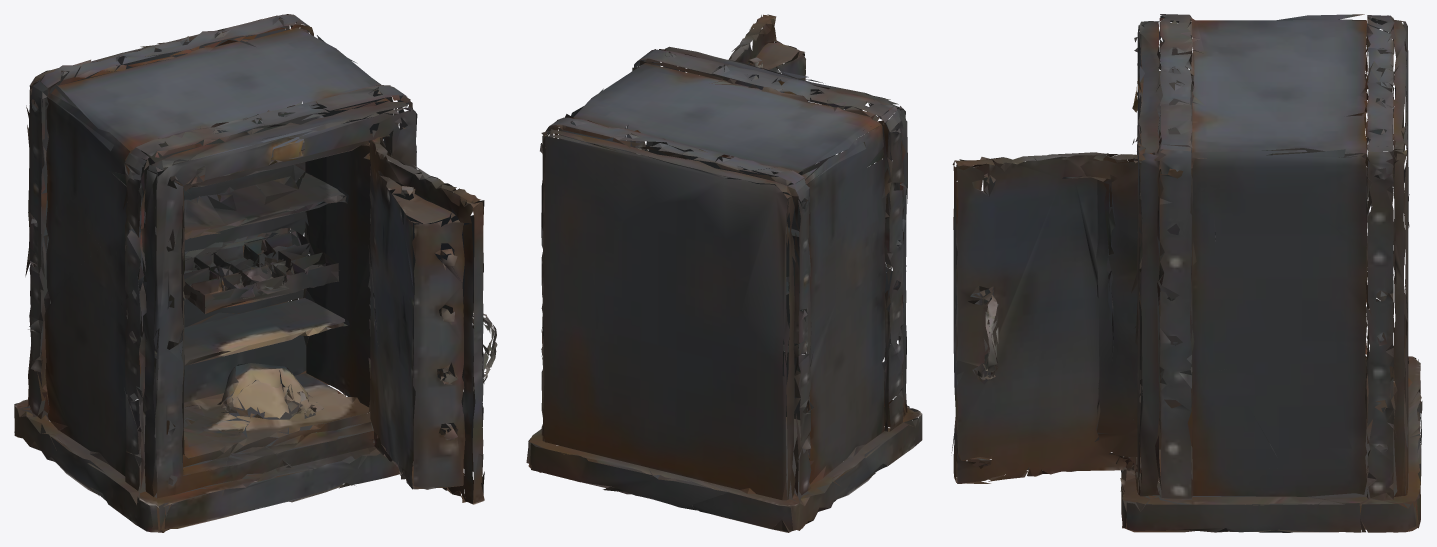
The model's file is safe_vault_open.glb.
3 views of the same model, side by side, from view 1: azimuth 30°, elevation 25°; view 2: azimuth 150°, elevation 25°; view 3: azimuth 270°, elevation 25° (orthographic). The views are drawn at different scales.
Parts seen in each view (by area): view 1: safe_vault_open; view 2: safe_vault_open; view 3: safe_vault_open.
Part boxes in pixels (x1=…): safe_vault_open: x1=14, y1=14, x2=497, y2=532; safe_vault_open: x1=526, y1=14, x2=922, y2=532; safe_vault_open: x1=951, y1=14, x2=1422, y2=532.
Size of the model in its own units: 1.26 by 1.53 by 1.68.
1 material, 1 textured.
